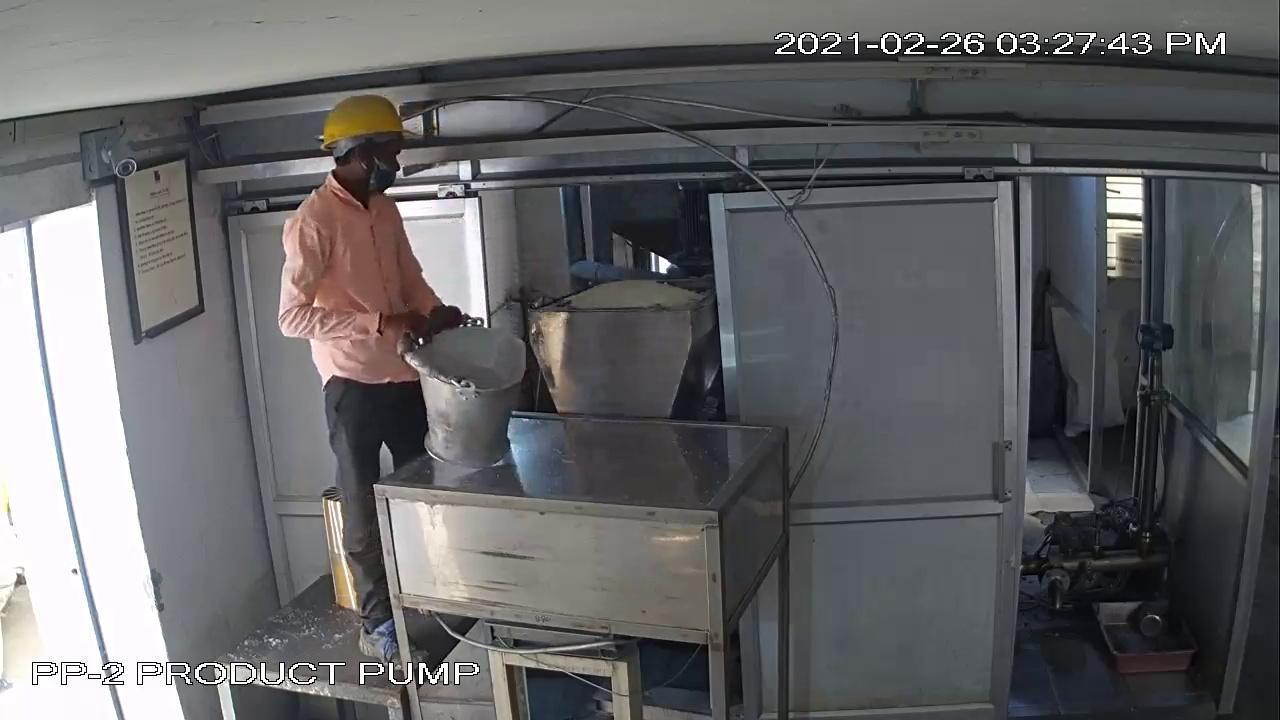helmet: (310, 95, 417, 151)
